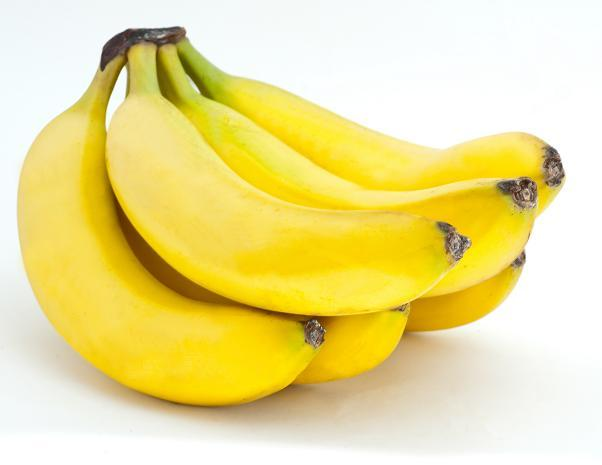banana: (12, 23, 578, 417)
